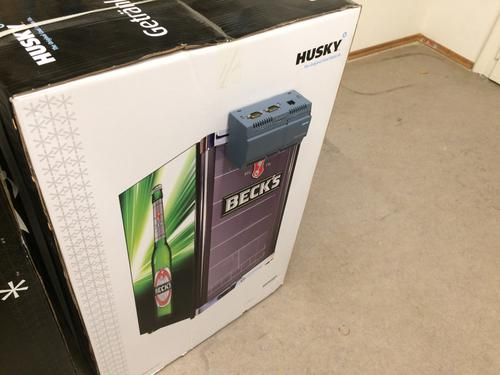iot2000: (224, 89, 312, 171)
